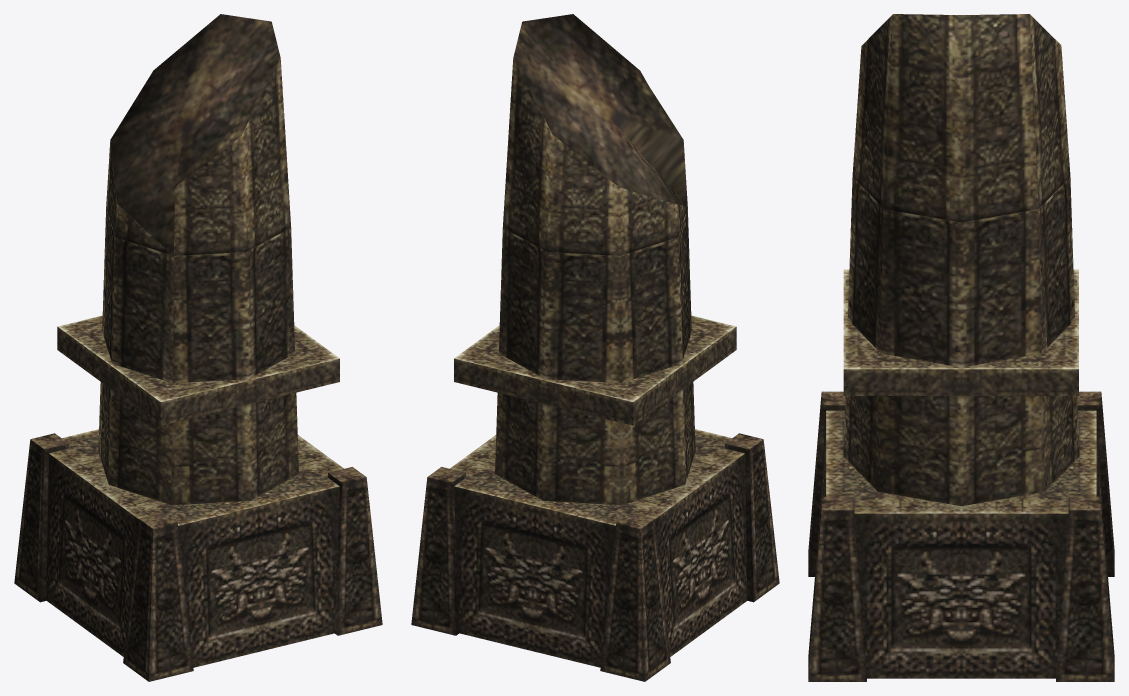
Rendered from general_obj_bigtower01_01.glb.
The picture shows the model from 3 angles, left to right: view 1: azimuth 30°, elevation 25°; view 2: azimuth 150°, elevation 25°; view 3: azimuth 270°, elevation 25°; orthographic projection. The views are drawn at different scales.
Visible parts, largest first — view 1: Sphere01; view 2: Sphere01; view 3: Sphere01.
Boxes of the visible parts, x1=… form: Sphere01: x1=14, y1=14, x2=382, y2=681; Sphere01: x1=411, y1=14, x2=779, y2=681; Sphere01: x1=808, y1=14, x2=1114, y2=681.
Size of the model in its own units: 5.22 by 12.05 by 5.21.
1 material, 1 textured.
